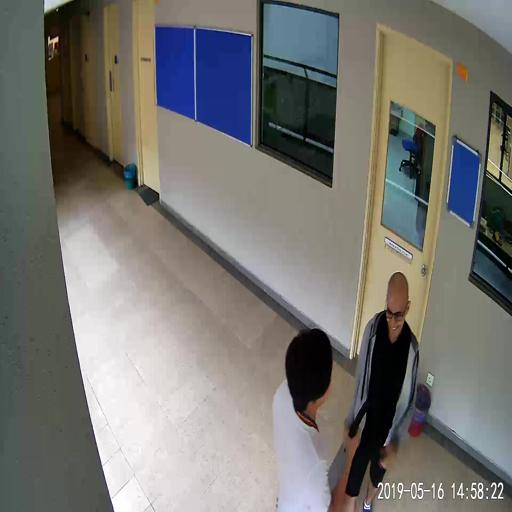pistol: (346, 395, 372, 439)
